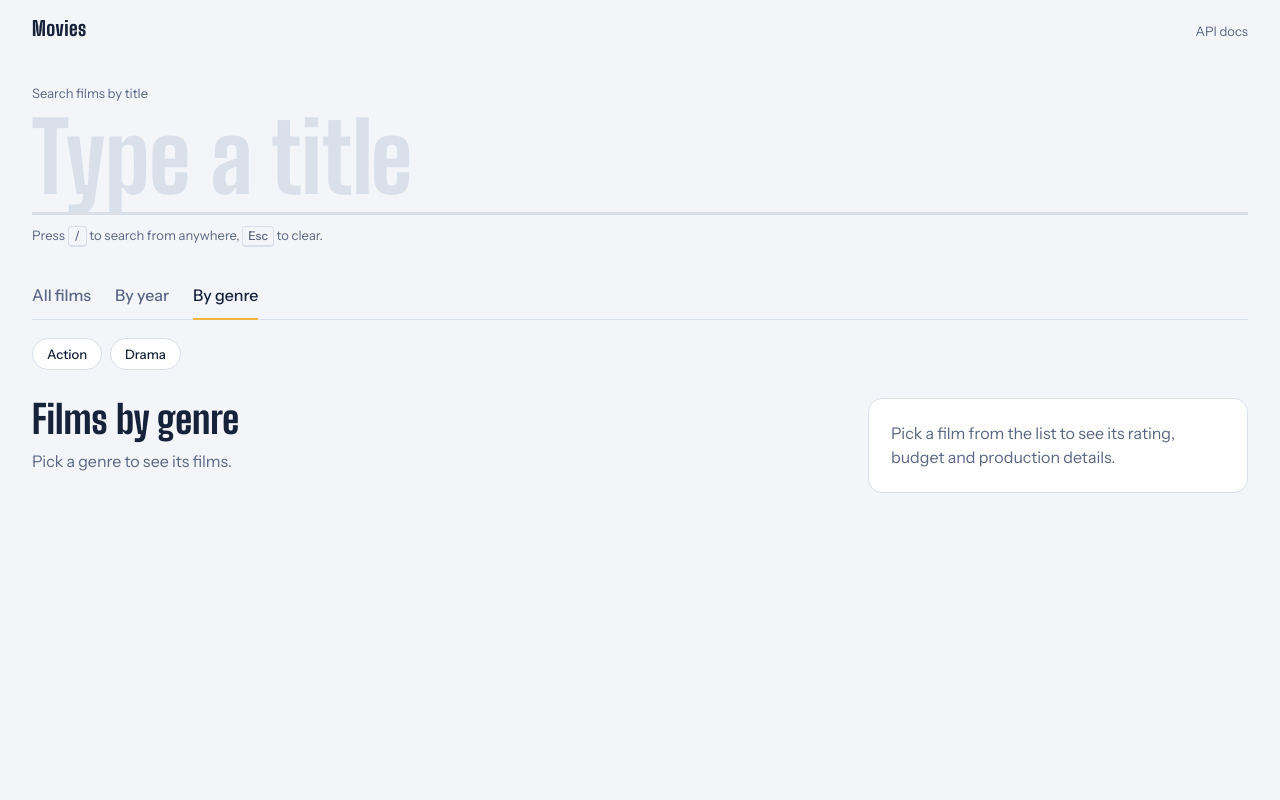
Test: browse › filters by genre
Click the button "Action" at (67, 354), box [32,338,102,370]
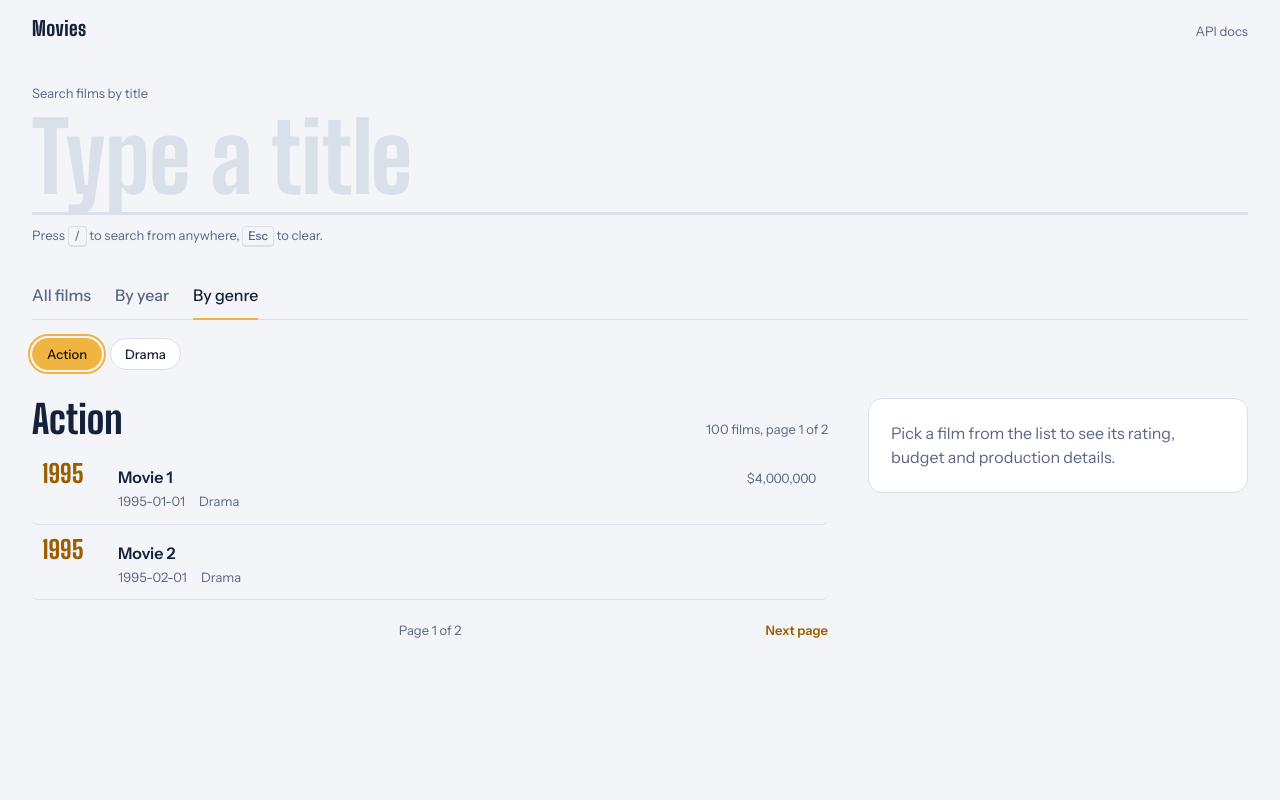
Check: the heading "Action" is shown, box [32,398,122,441]
